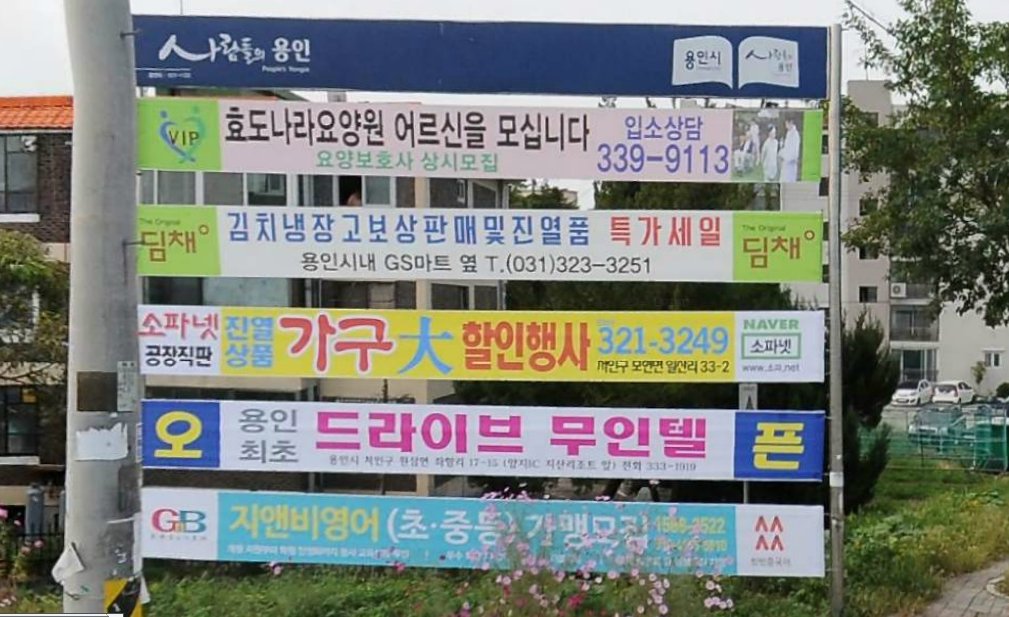banner: (106, 78, 852, 205), (104, 478, 876, 571), (109, 192, 838, 288), (113, 305, 859, 388), (61, 396, 860, 470)
